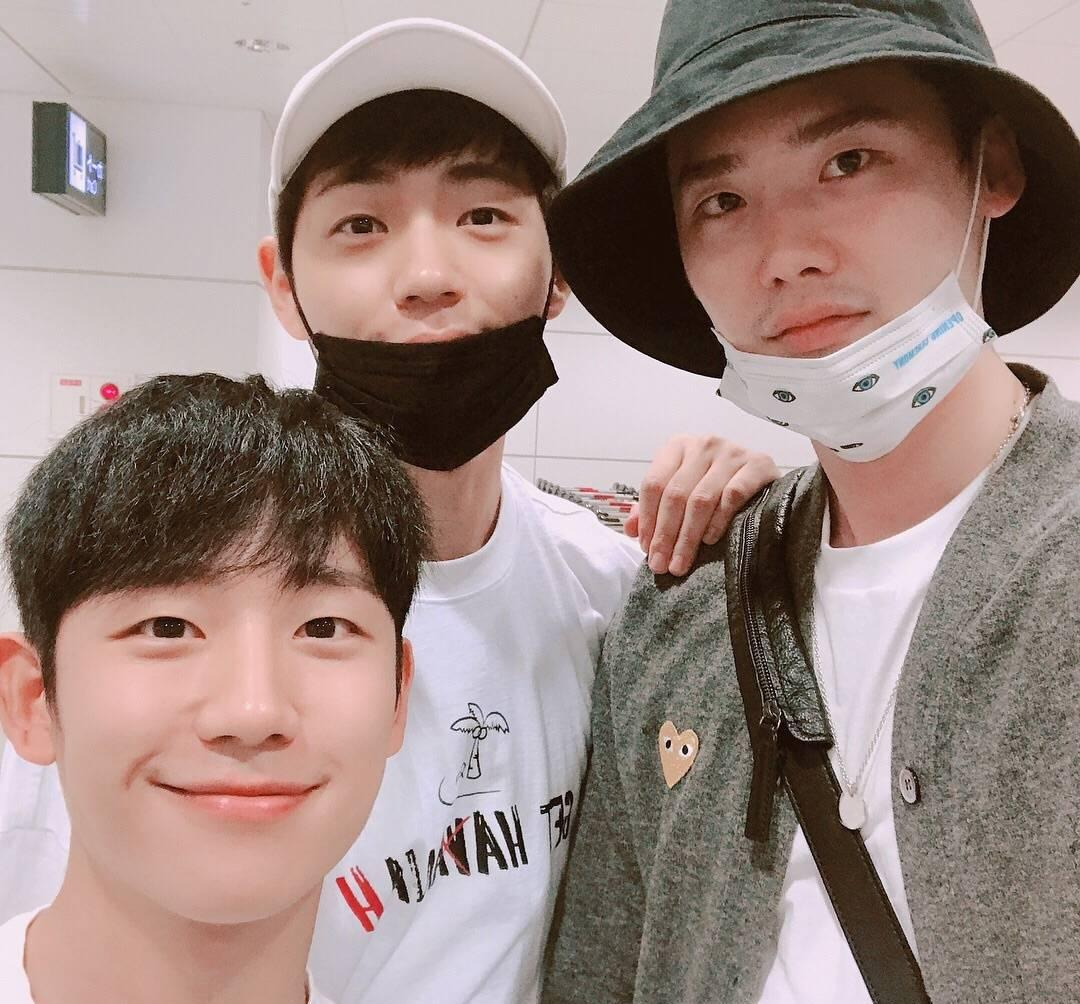NONE: (74, 571, 389, 919)
WRONG: (667, 134, 994, 426), (301, 157, 567, 423)
